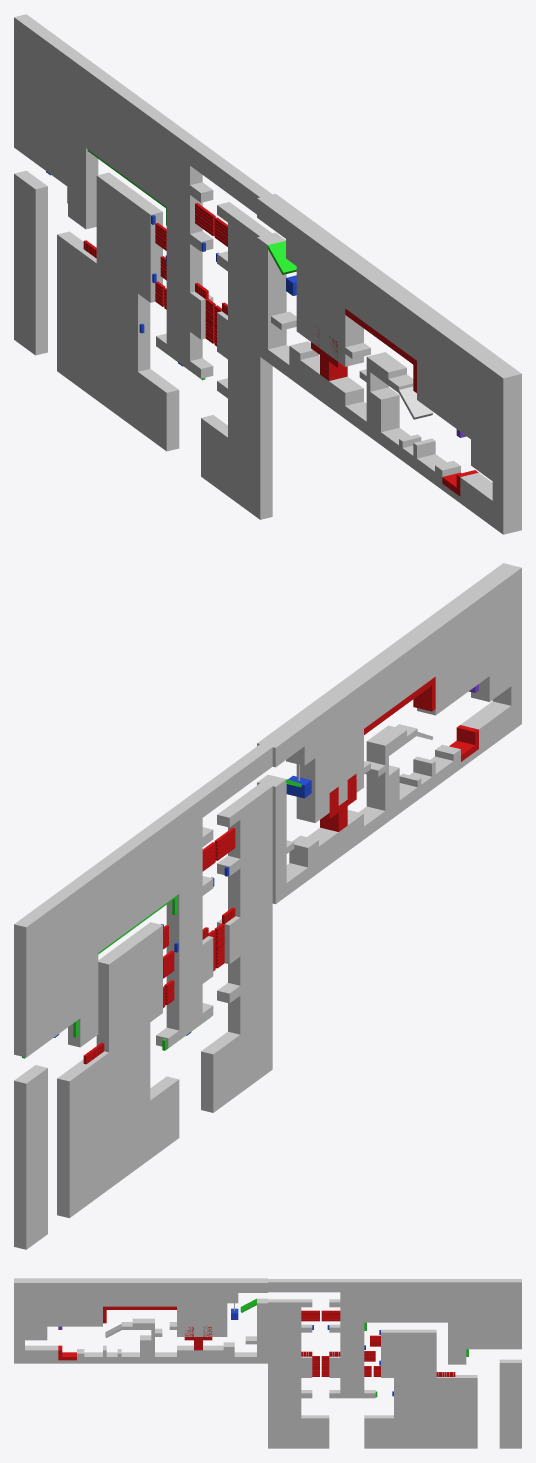
The picture shows the model from 3 angles, top to bottom: view 1: azimuth 30°, elevation 25°; view 2: azimuth 150°, elevation 25°; view 3: azimuth 270°, elevation 25°; orthographic projection. The views are drawn at different scales.
Parts seen in each view (by area): view 1: Cube.001, Cube.005, Cube.019, Cube.020, Cube.004, Cube.072, Cube.069, Cube.003, Cube.013, Cube.070, Cube.071, Cube.061 (+14 smaller); view 2: Cube.019, Cube.001, Cube.005, Cube.013, Cube.020, Cube.004, Cube.072, Cube.003, Cube.070, Cube.071, Cube.069, Cube.061 (+12 smaller); view 3: Cube.019, Cube.005, Cube.001, Cube.020, Cube.013, Cube.072, Cube.004, Cube.070, Cube.071, Cube.069, Cube.003, Cube.061 (+16 smaller).
Part boxes in pixels (x1,y1,x2,y2): Cube.001: (228, 210, 272, 519); Cube.005: (96, 172, 150, 429); Cube.019: (14, 14, 98, 199); Cube.020: (86, 67, 178, 206); Cube.004: (166, 126, 202, 370); Cube.072: (296, 222, 363, 366); Cube.069: (471, 350, 521, 488); Cube.003: (14, 170, 47, 355); Cube.013: (57, 231, 96, 399); Cube.070: (417, 310, 489, 438); Cube.071: (345, 258, 435, 360); Cube.061: (268, 345, 446, 484); Cube.019: (14, 872, 98, 1057); Cube.001: (228, 783, 272, 1092); Cube.005: (96, 931, 150, 1188); Cube.013: (57, 1051, 108, 1218); Cube.020: (86, 812, 179, 952); Cube.004: (166, 795, 202, 1039); Cube.072: (296, 679, 363, 822); Cube.003: (14, 1065, 47, 1249); Cube.070: (417, 587, 489, 715); Cube.071: (345, 626, 435, 728); Cube.069: (471, 563, 521, 701); Cube.061: (286, 756, 453, 895); Cube.019: (448, 1279, 521, 1349); Cube.005: (394, 1329, 436, 1448); Cube.001: (268, 1299, 301, 1448); Cube.020: (364, 1279, 447, 1322); Cube.013: (436, 1375, 477, 1448); Cube.072: (177, 1278, 227, 1336); Cube.004: (340, 1279, 364, 1398); Cube.070: (47, 1278, 102, 1326); Cube.071: (103, 1278, 176, 1306); Cube.069: (14, 1278, 47, 1340); Cube.003: (499, 1359, 521, 1448); Cube.061: (84, 1352, 256, 1363).
Bounding box in the file's own units: 350 × 4950 × 13700.
